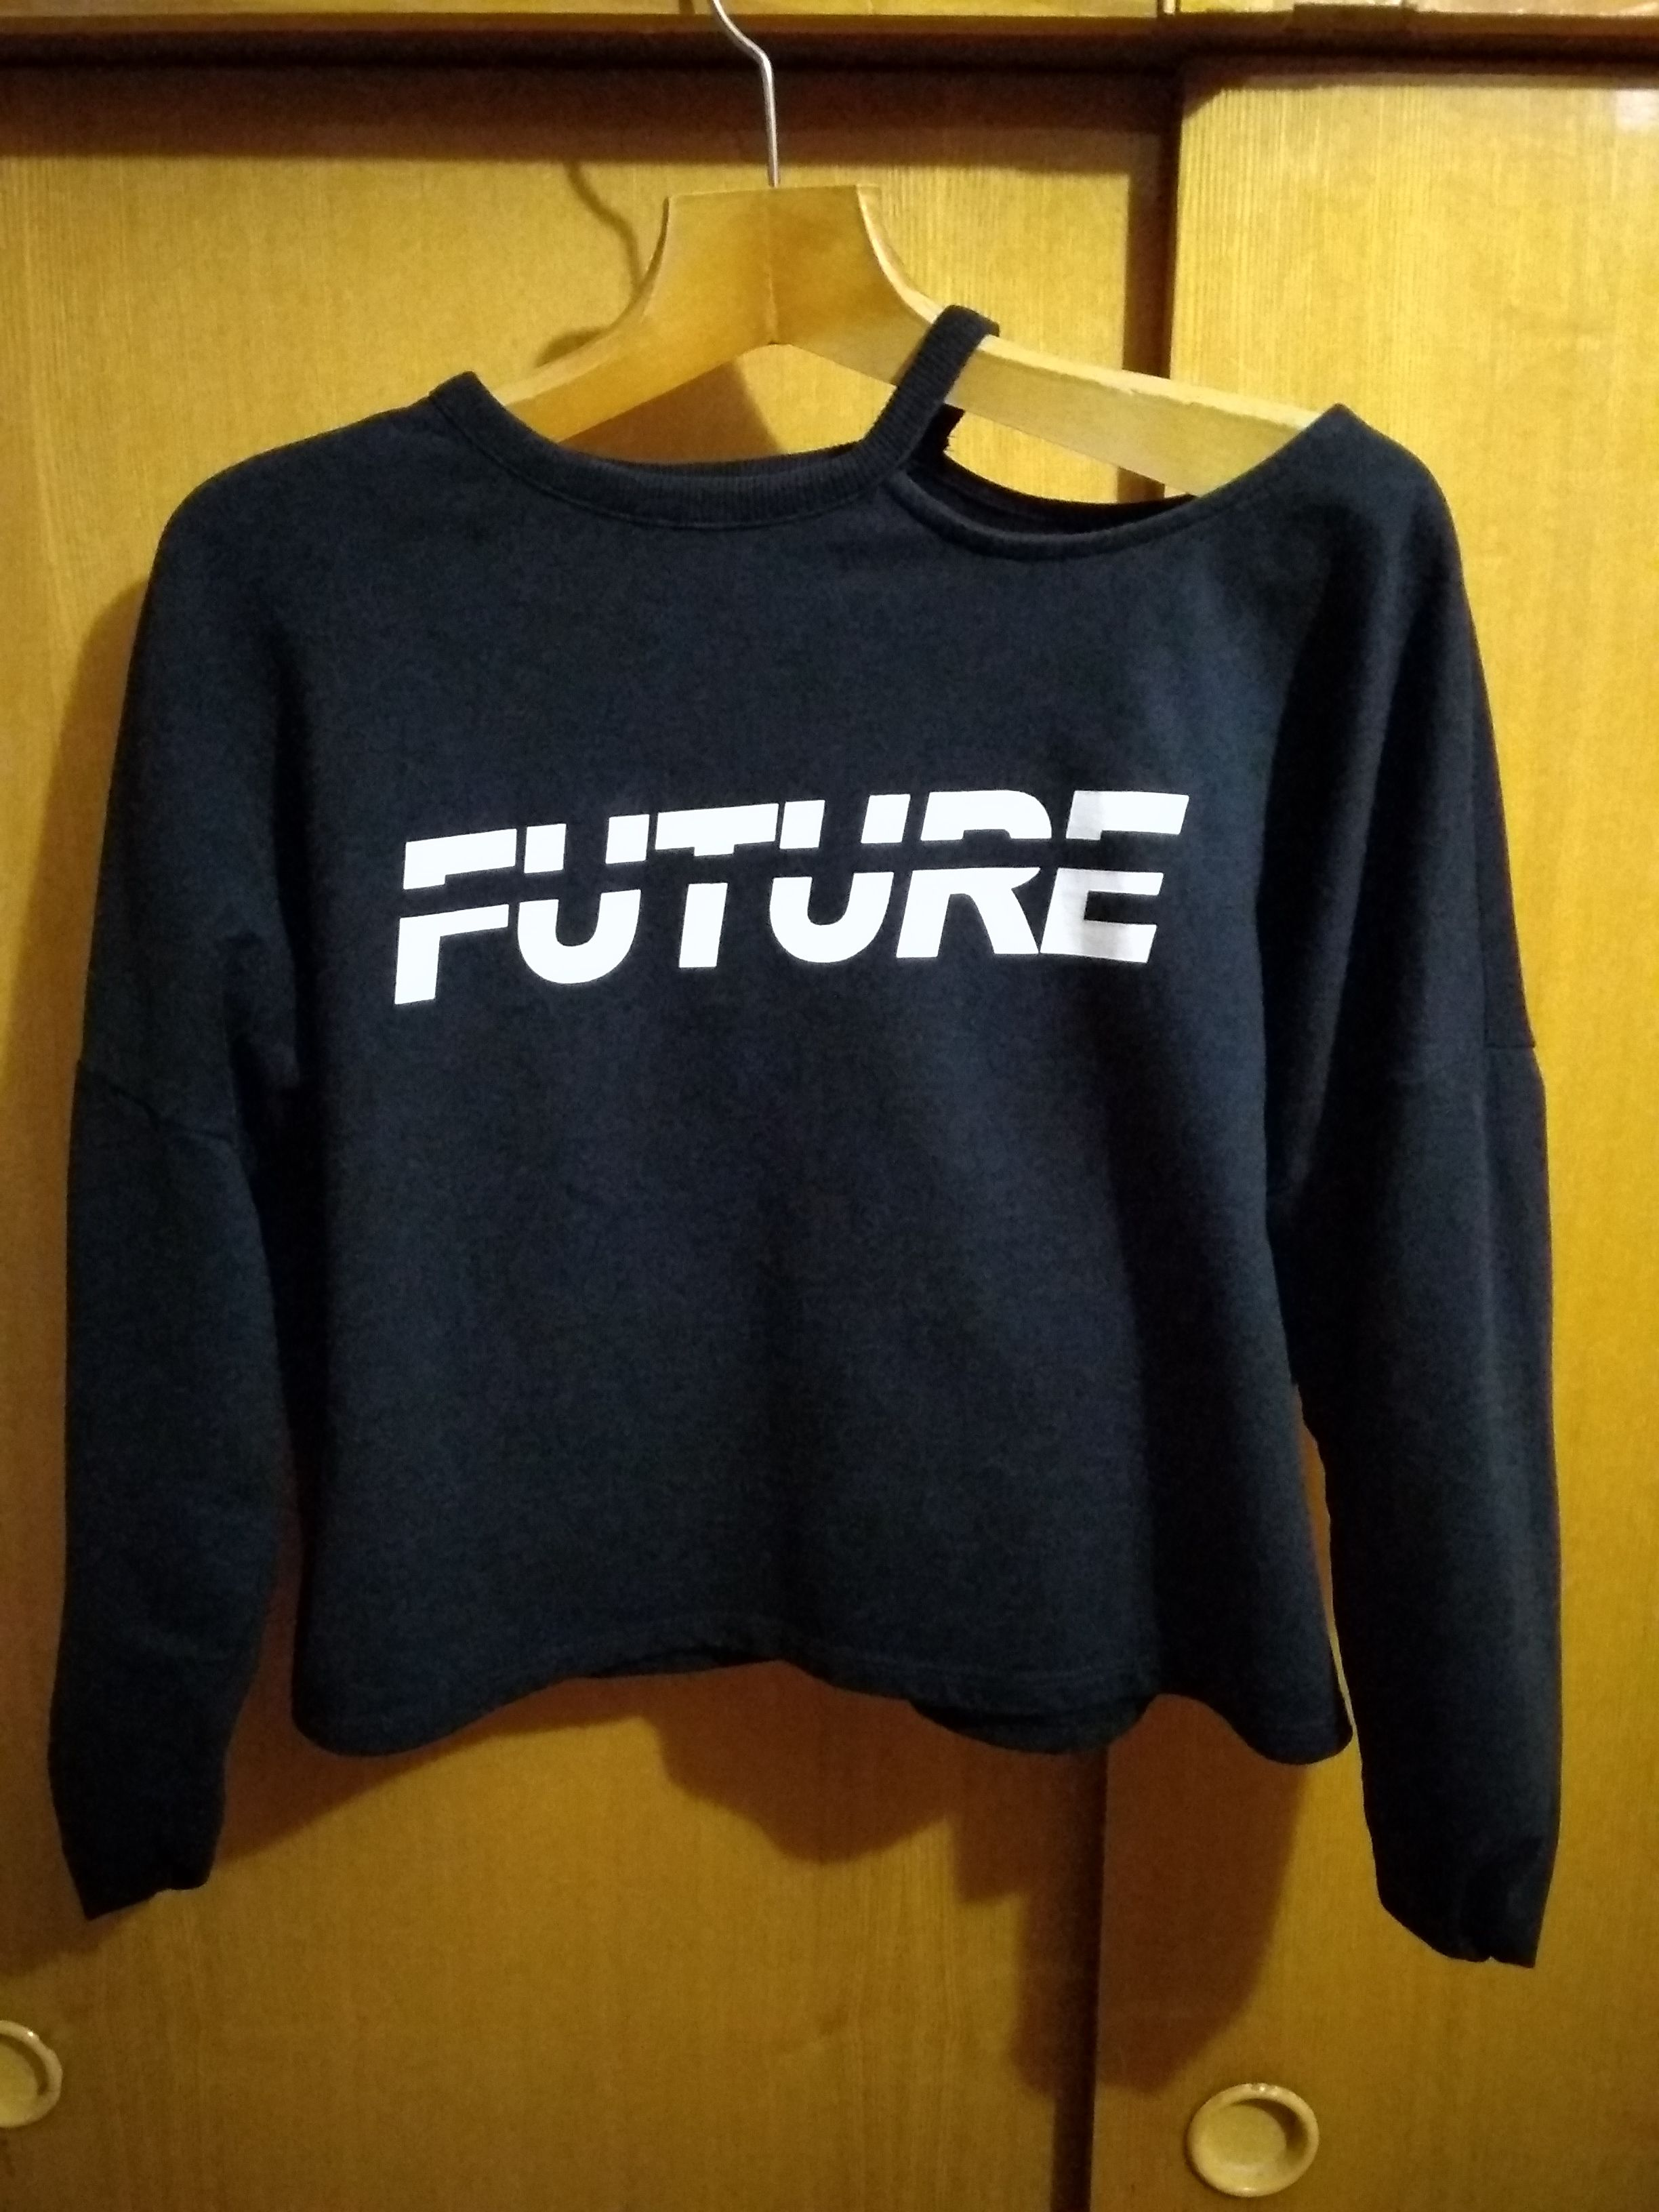clothes: (82, 354, 1574, 1977)
